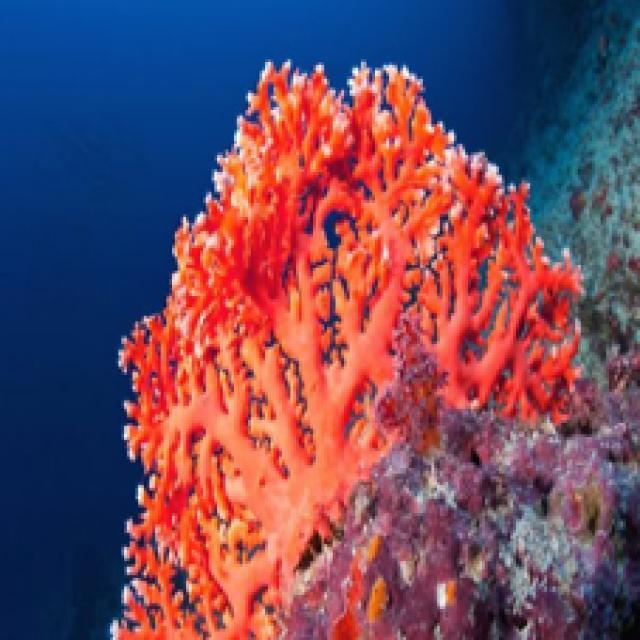Healthy: (129, 247, 583, 417), (308, 428, 640, 640), (202, 60, 533, 235), (113, 430, 310, 638)
